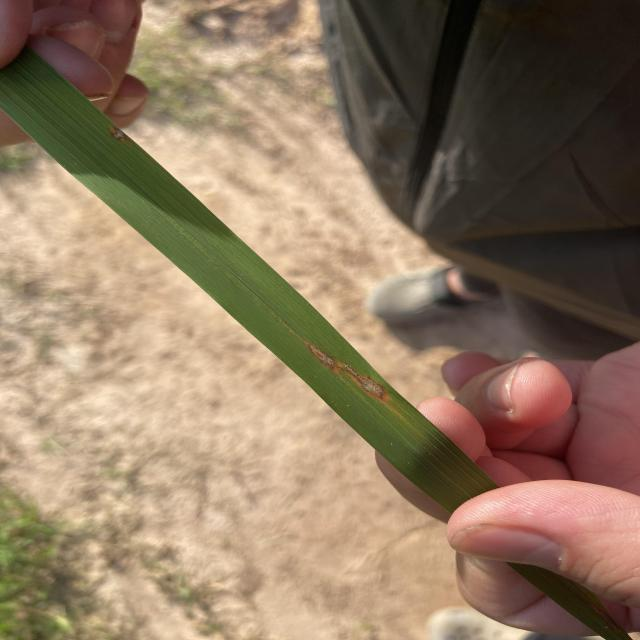Dao on: (343, 363, 386, 398), (308, 345, 338, 369), (109, 127, 131, 142)
